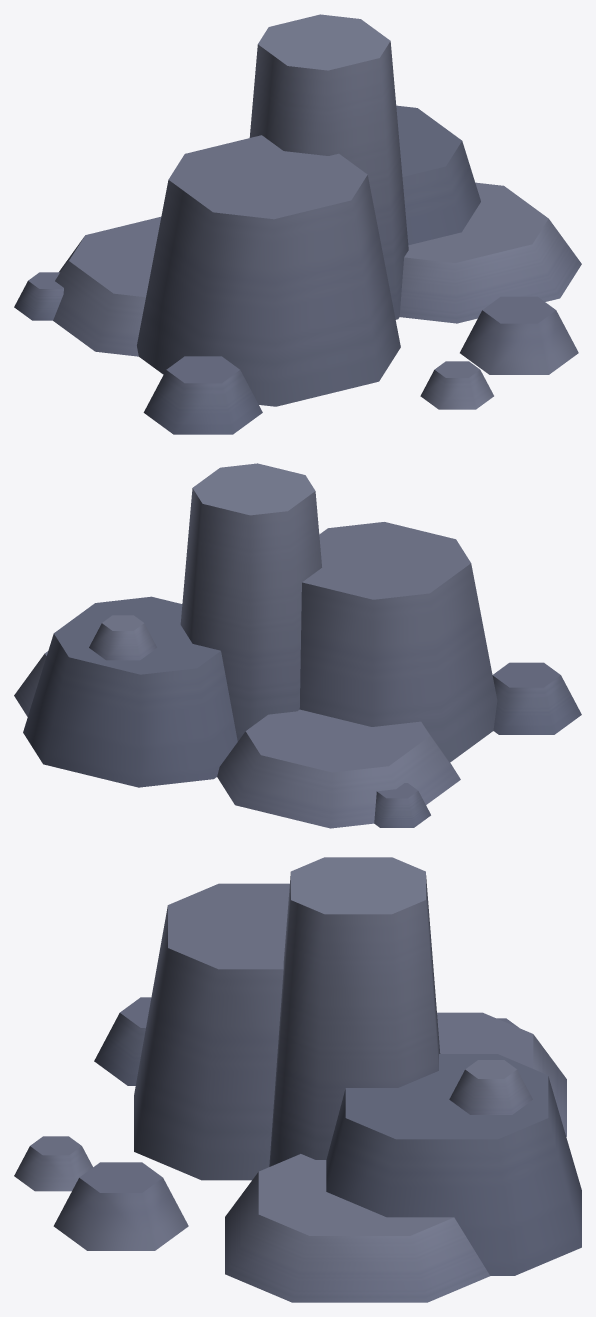
Rendered from stones.glb.
3 views of the same model, one above another, from view 1: azimuth 30°, elevation 25°; view 2: azimuth 150°, elevation 25°; view 3: azimuth 270°, elevation 25° (orthographic). The views are drawn at different scales.
Parts seen in each view (by area): view 1: stones; view 2: stones; view 3: stones.
Part boxes in pixels (x1=…): stones: x1=14, y1=14, x2=581, y2=434; stones: x1=14, y1=463, x2=581, y2=828; stones: x1=14, y1=857, x2=581, y2=1302.
Bounding box in the file's own units: 0.8924 × 0.4539 × 0.8045.
1 material, 1 textured.
